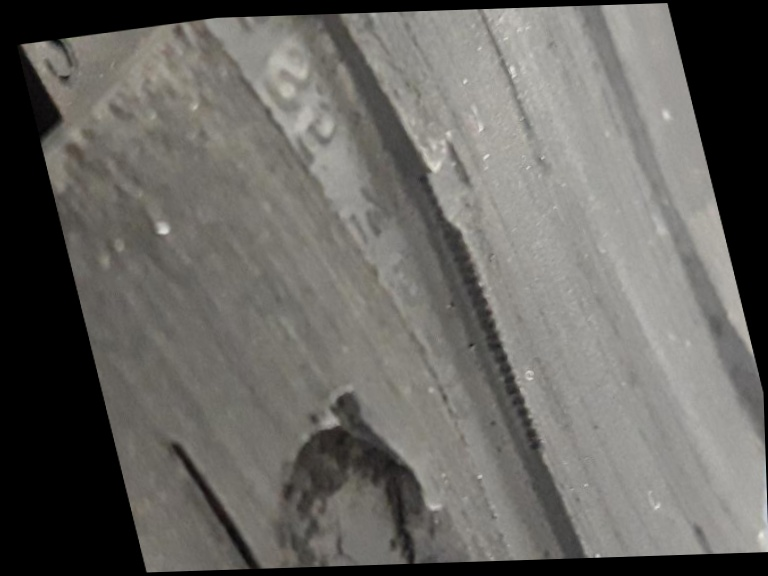temoin:0: (396, 123, 509, 258)
